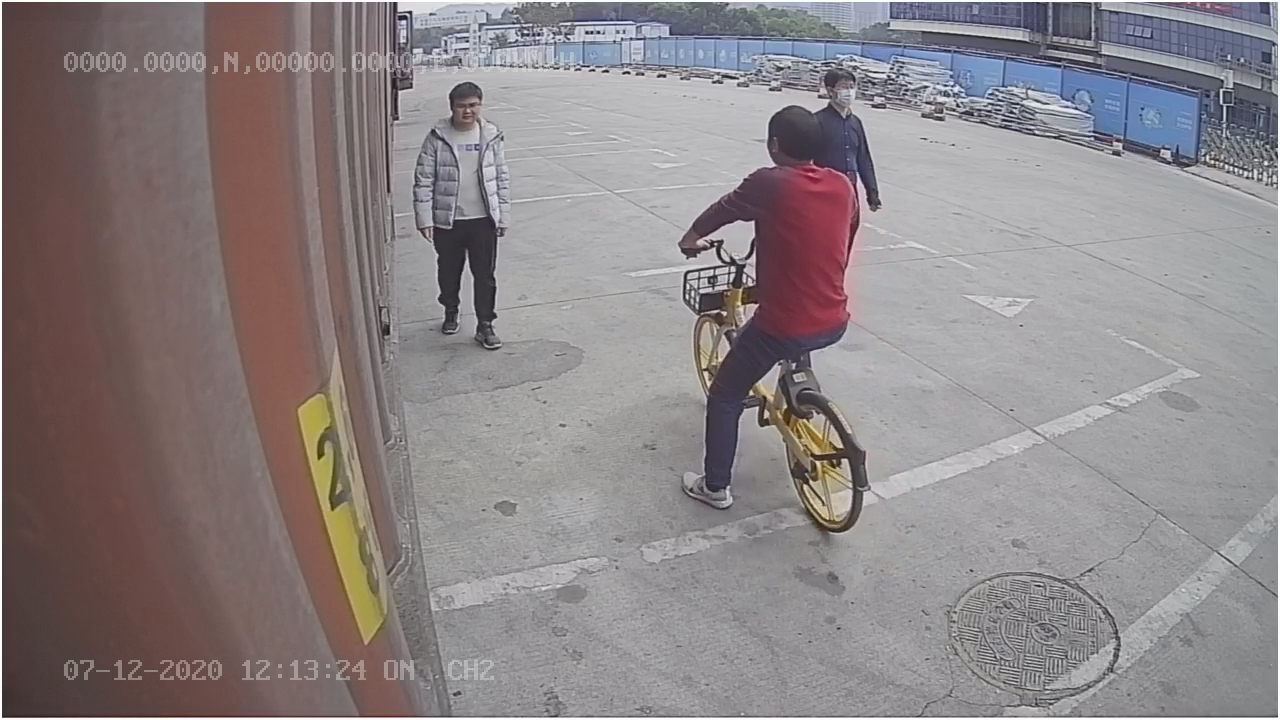person: (413, 82, 512, 349)
